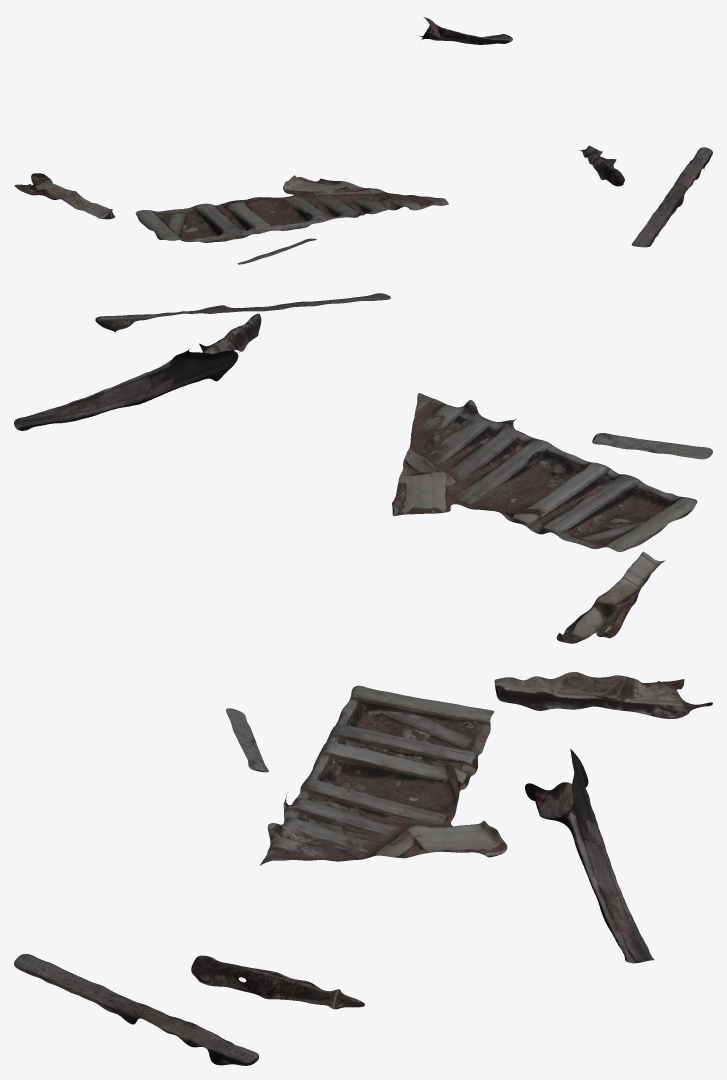
The model's file is GEO_Sticks.glb.
3 views of the same model, one above another, from view 1: azimuth 30°, elevation 25°; view 2: azimuth 150°, elevation 25°; view 3: azimuth 270°, elevation 25° (orthographic). The views are drawn at different scales.
Parts seen in each view (by area): view 1: geo1; view 2: geo1; view 3: geo1.
Part boxes in pixels (x1,y1,x2,y2): geo1: (14, 17, 712, 264); geo1: (14, 293, 712, 643); geo1: (14, 672, 712, 1065).
Size of the model in its own units: 6.62 by 1.42 by 4.93.
1 material, 1 textured.
